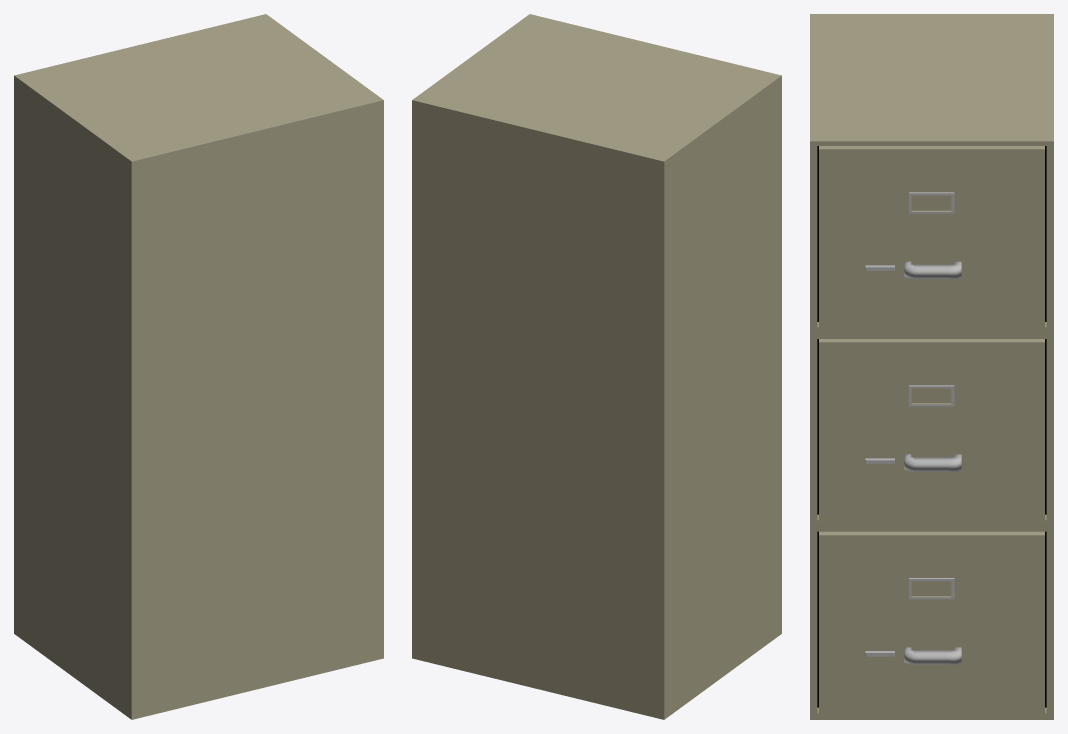
The model's file is Cabinets3x1.fbx.
The picture shows the model from 3 angles, left to right: view 1: azimuth 30°, elevation 25°; view 2: azimuth 150°, elevation 25°; view 3: azimuth 270°, elevation 25°; orthographic projection. The views are drawn at different scales.
Visible parts, largest first — view 1: Cube.002; view 2: Cube.002; view 3: Cube.002.
Boxes of the visible parts, x1,y1,x2,y2 form: Cube.002: (14, 14, 383, 719); Cube.002: (412, 14, 781, 719); Cube.002: (810, 14, 1053, 719).
Bounding box in the file's own units: 104 × 207 × 79.21.
